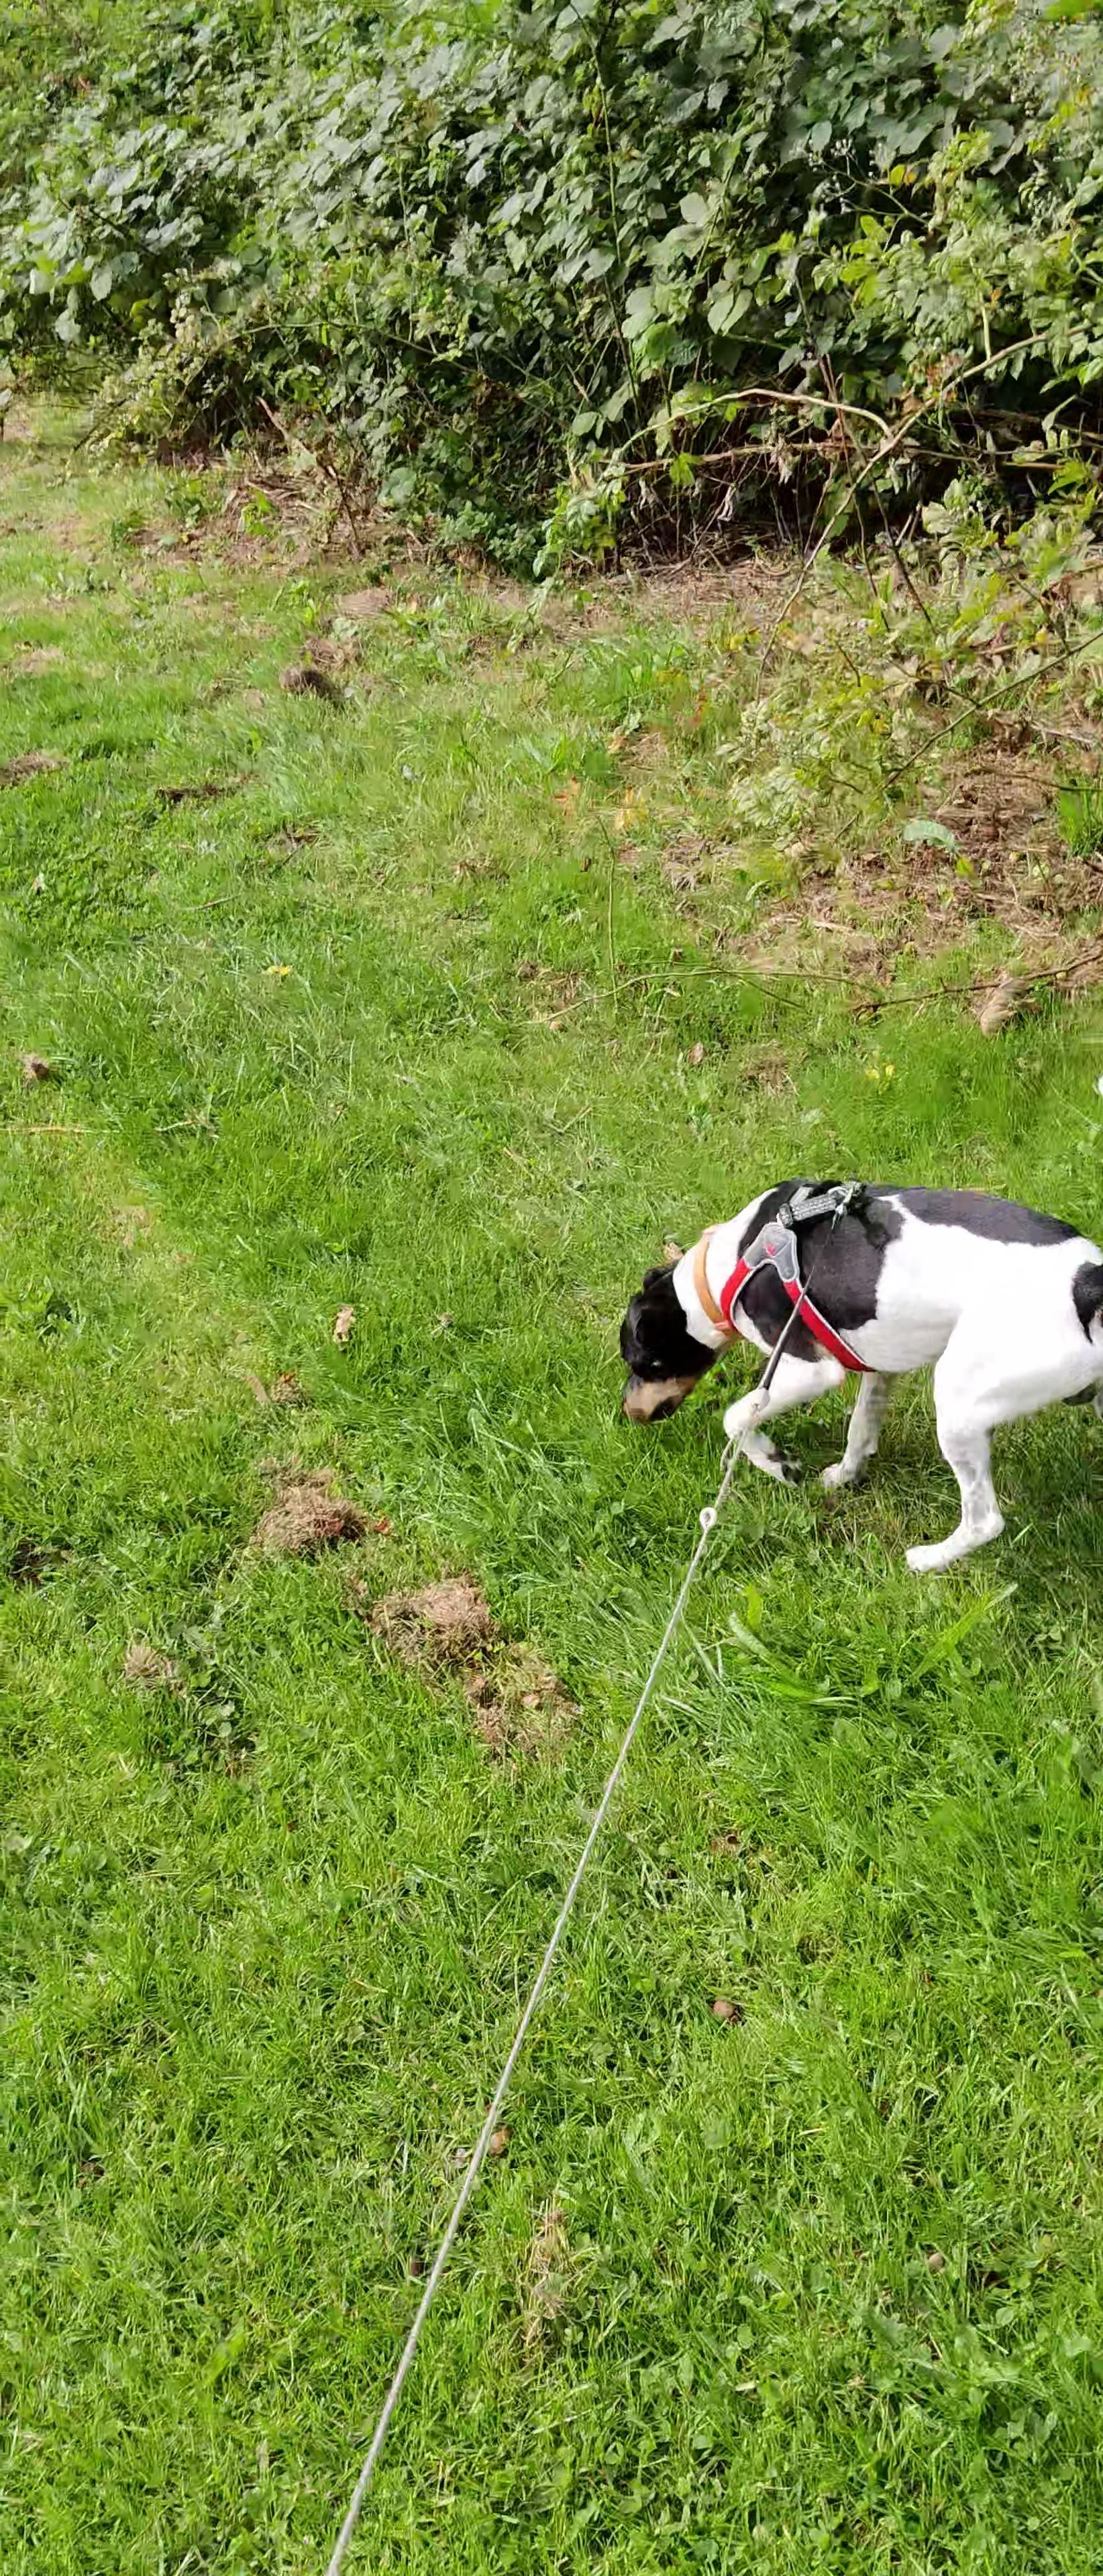Dog: (610, 1171, 1103, 1566)
